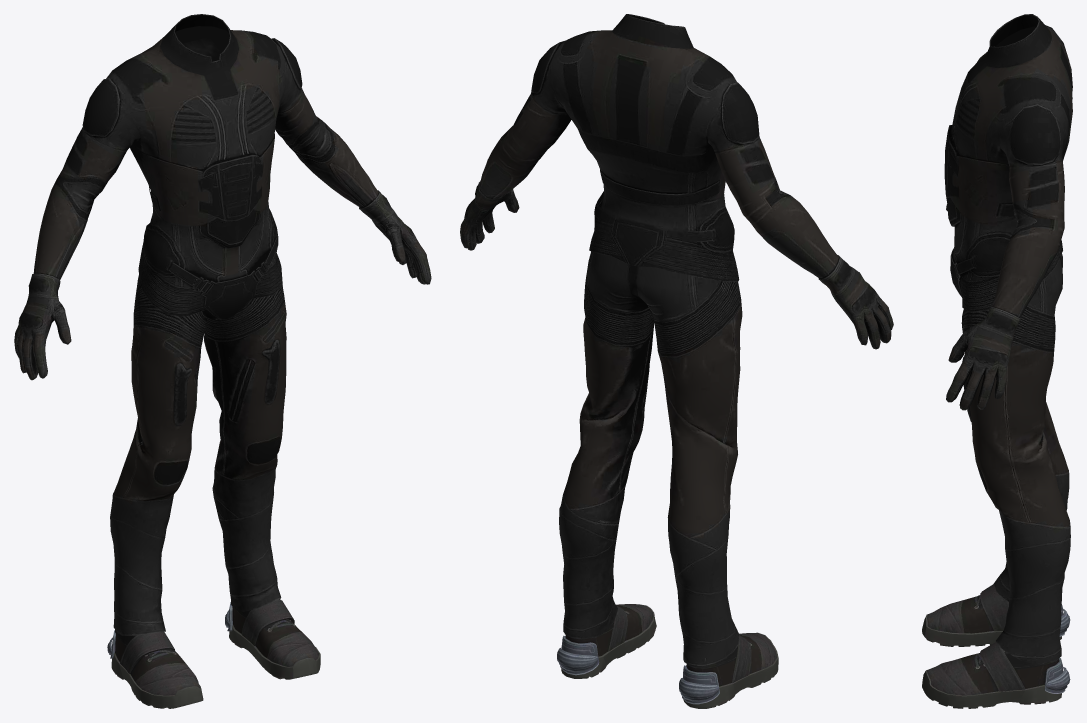
Rendered from Character_1_Costume_1.glb.
The picture shows the model from 3 angles, left to right: view 1: azimuth 30°, elevation 25°; view 2: azimuth 150°, elevation 25°; view 3: azimuth 270°, elevation 25°; orthographic projection. The views are drawn at different scales.
Visible parts, largest first — view 1: Outfit_Top, Outfit_Bottom, Outfit_Footwear; view 2: Outfit_Top, Outfit_Bottom, Outfit_Footwear; view 3: Outfit_Top, Outfit_Bottom, Outfit_Footwear.
Part boxes in pixels (x1,y1,x2,y2): Outfit_Top: (14, 14, 431, 380); Outfit_Bottom: (110, 275, 286, 635); Outfit_Footwear: (107, 599, 320, 708); Outfit_Top: (460, 14, 893, 349); Outfit_Bottom: (559, 251, 742, 665); Outfit_Footwear: (557, 604, 778, 708); Outfit_Top: (944, 14, 1072, 410); Outfit_Bottom: (961, 253, 1070, 663); Outfit_Footwear: (922, 584, 1070, 708).
Bounding box in the file's own units: 1.07 × 1.62 × 0.3433.
Materials: 3 (3 with a texture image).
